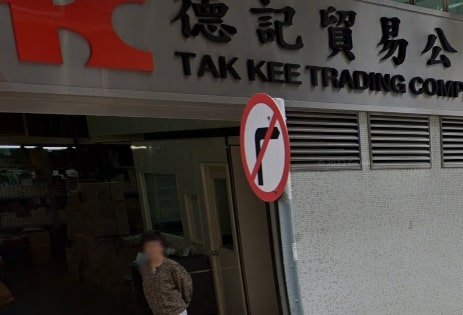No Turn Right: (240, 90, 290, 205)
